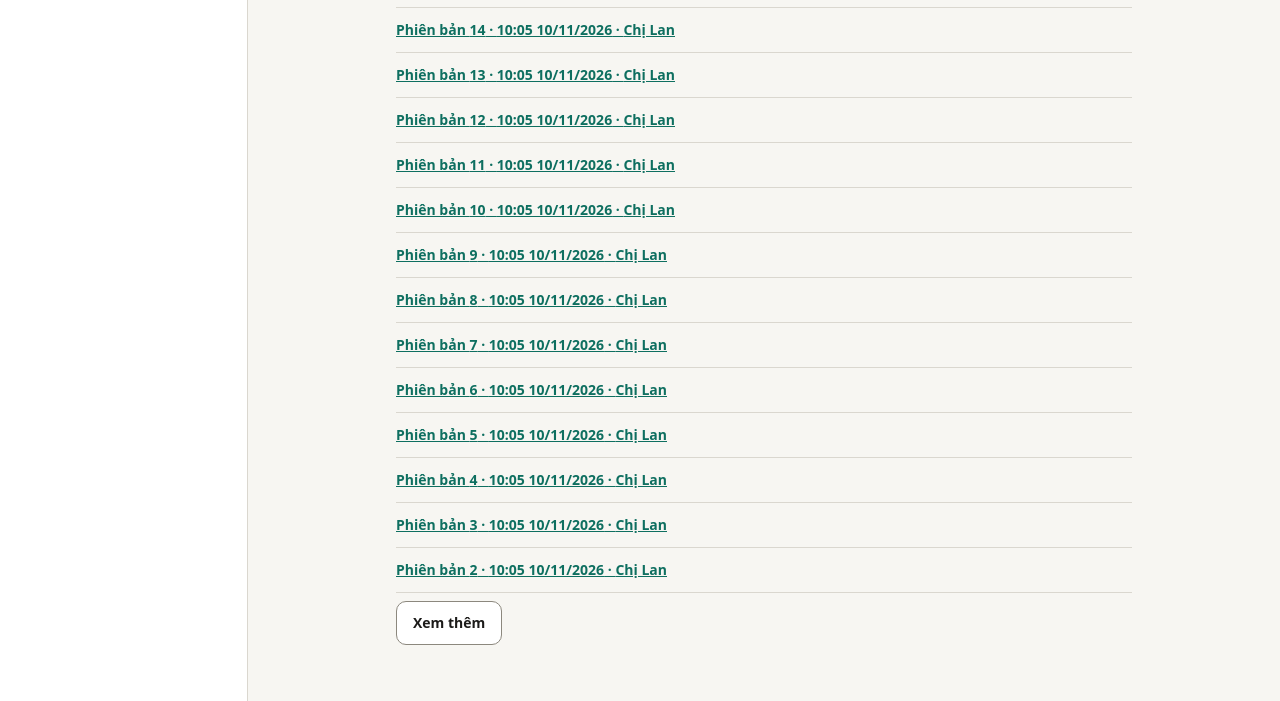
Lịch sử phiên bản › "Phiên bản N · thời điểm · người lưu", mới nhất trước; "Thành viên đã rời"; "Xem thêm" tải trang kế
This screenshot has width=1280, height=701.
(page scrolled)
Click the button "Xem thêm".
click(449, 623)  # box [396,601,502,645]
(page scrolled)
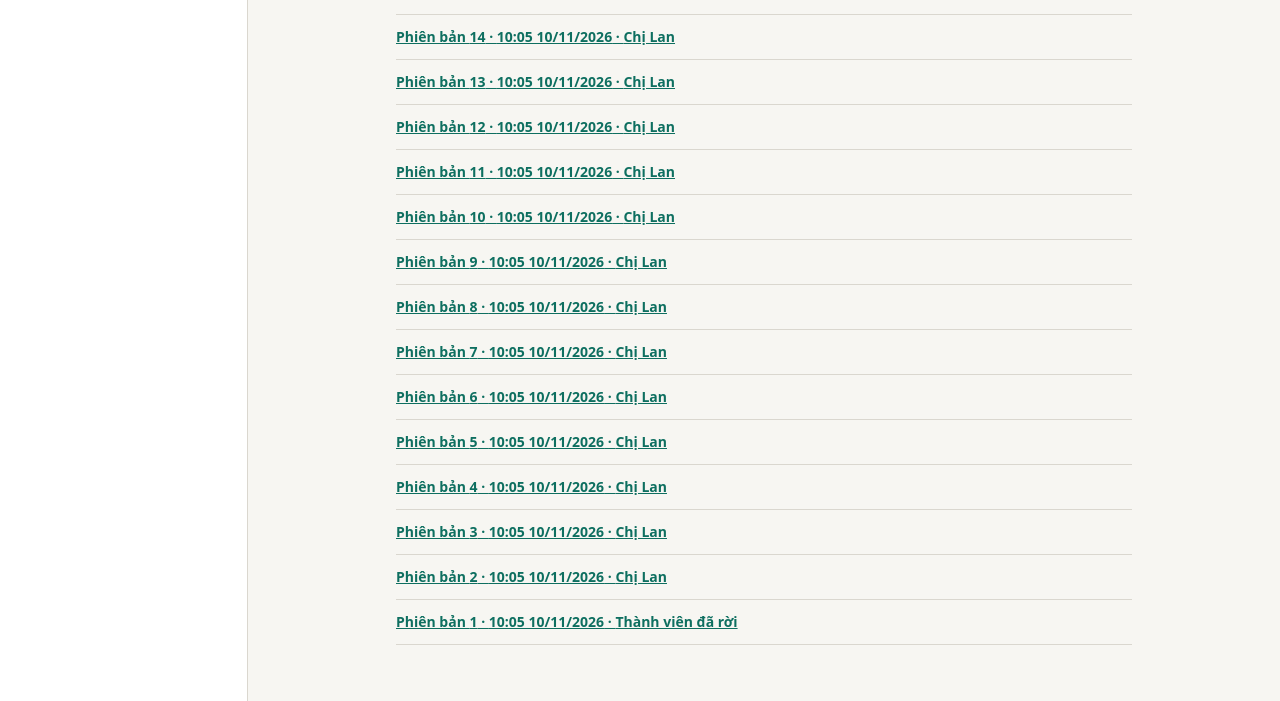
Expected: the link "Phiên bản 1 · 10:05 10/11/2026 · Thành viên đã rời" is shown, [396,612,738,631]
Expected: the button "Xem thêm" is gone
